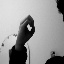o: (17, 14, 36, 39)
